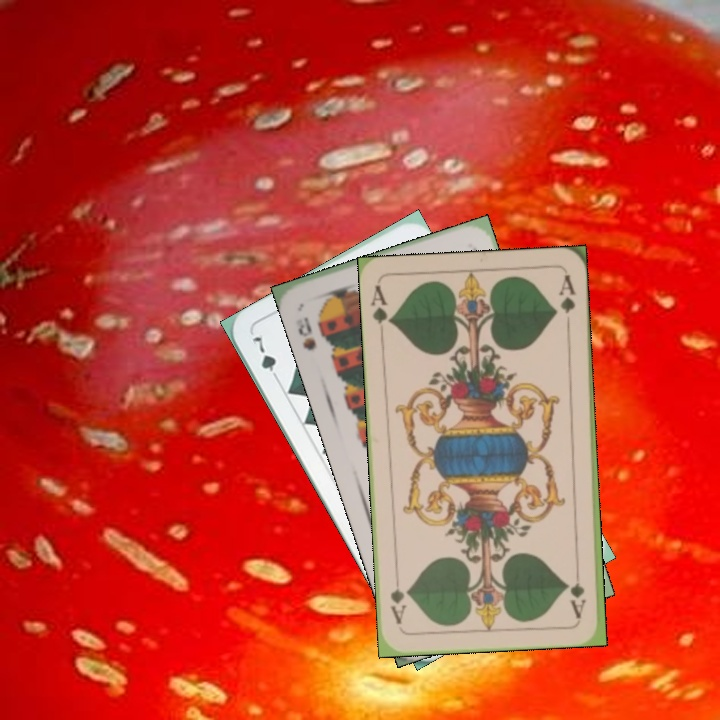G7: (248, 332, 283, 386)
GA: (367, 281, 395, 340), (568, 561, 589, 620)
S8: (293, 312, 319, 353)
